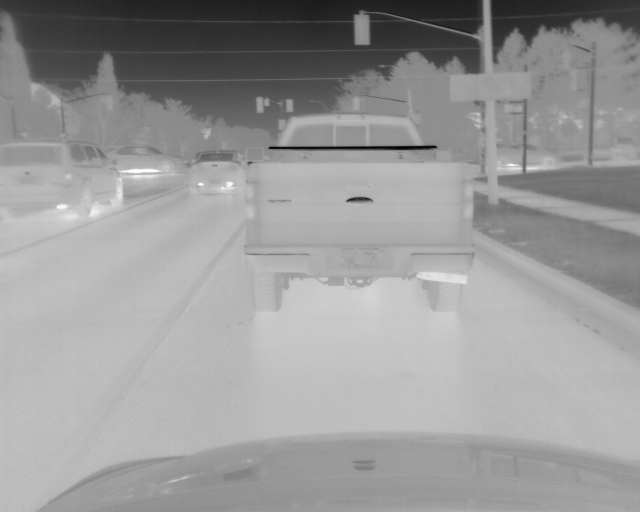car: (242, 111, 476, 316), (1, 140, 125, 220), (109, 143, 185, 189), (187, 147, 247, 198), (493, 141, 560, 171)
